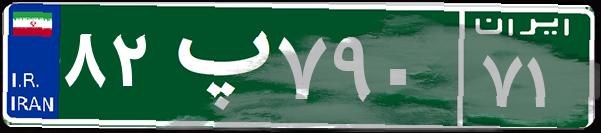0: (385, 28, 445, 110)
1: (525, 38, 570, 115)
2: (110, 28, 158, 105)
7: (273, 28, 330, 110), (475, 38, 525, 113)
8: (57, 26, 110, 107)
9: (330, 28, 385, 110)
پ: (158, 15, 273, 115)
